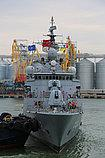MIL_Ship: (23, 22, 83, 156)
